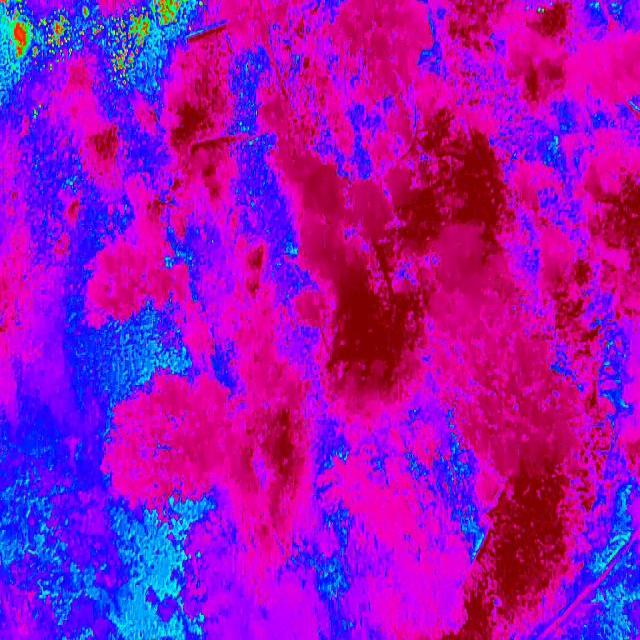fire: (0, 0, 193, 90)
